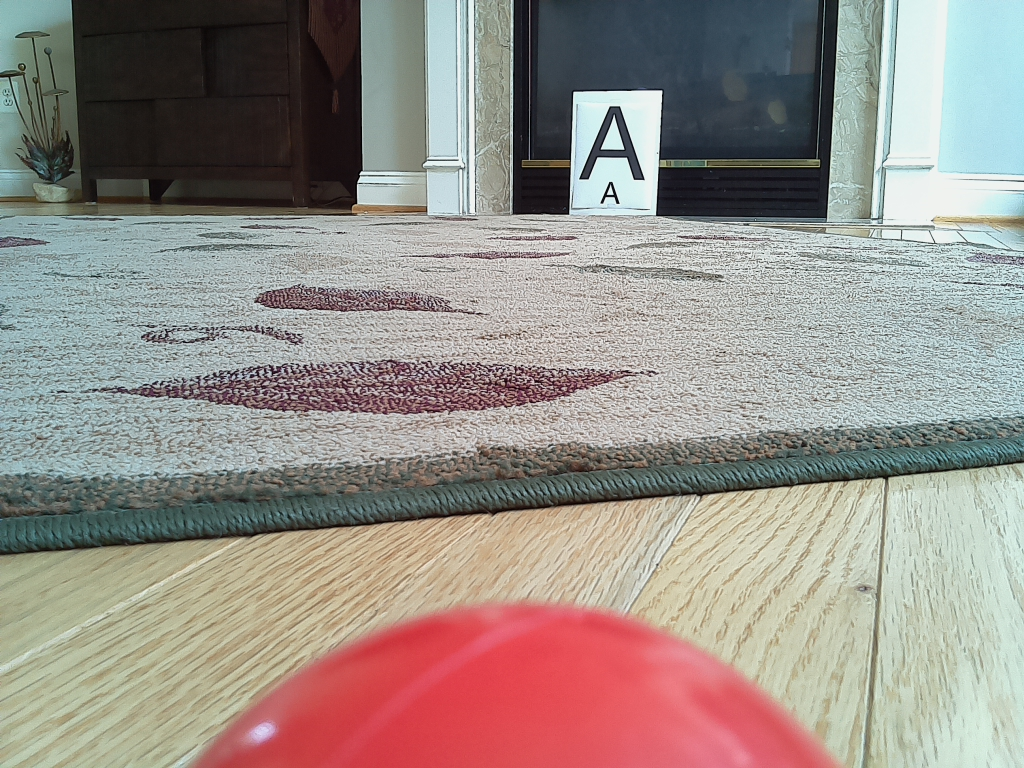letter: (578, 107, 645, 180)
